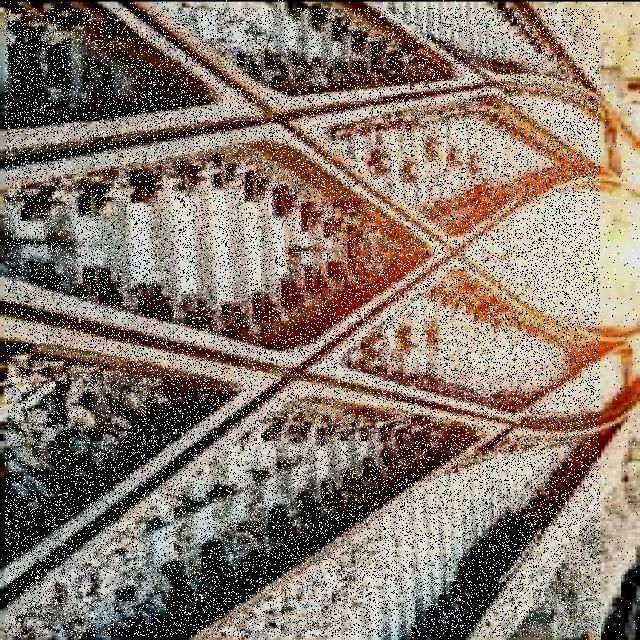rail: (5, 8, 600, 637)
